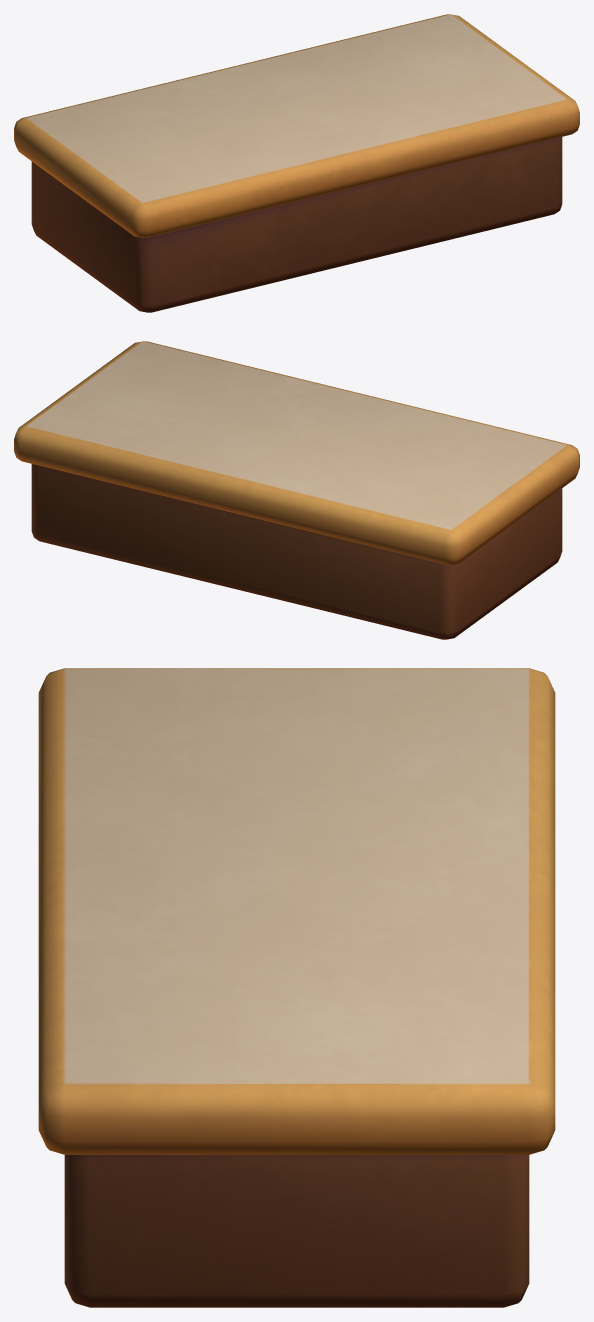
Rendered from DeliveryCounter.fbx.
3 views of the same model, one above another, from view 1: azimuth 30°, elevation 25°; view 2: azimuth 150°, elevation 25°; view 3: azimuth 270°, elevation 25° (orthographic). The views are drawn at different scales.
Parts seen in each view (by area): view 1: DeliveryCounter.Base; view 2: DeliveryCounter.Base; view 3: DeliveryCounter.Base.
Part boxes in pixels (box(x1,y1,x2,y2)): DeliveryCounter.Base: box(14, 14, 579, 312); DeliveryCounter.Base: box(14, 341, 579, 639); DeliveryCounter.Base: box(38, 668, 555, 1307).
Bounding box in the file's own units: 200 × 50 × 100.
